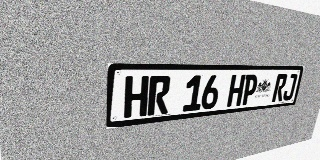1: (183, 75, 204, 112)
6: (200, 75, 221, 110)
H: (124, 76, 149, 118), (227, 75, 246, 107)
J: (282, 74, 298, 101)
P: (241, 74, 259, 105)
R: (147, 76, 171, 116), (271, 74, 288, 102)
